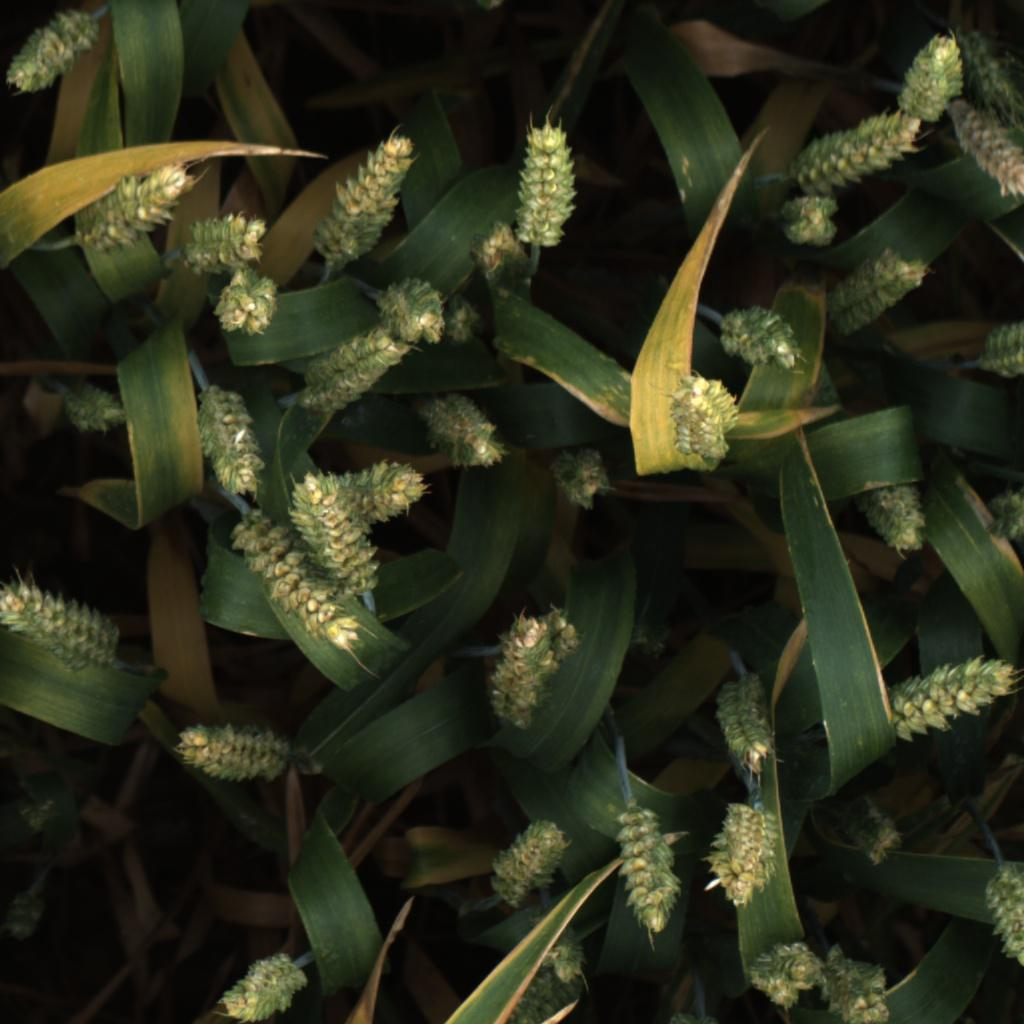0-0: (220, 505, 362, 654), (306, 132, 416, 274), (63, 152, 206, 260), (878, 654, 1017, 746), (781, 110, 924, 194), (0, 574, 121, 671), (288, 470, 379, 588), (301, 319, 415, 413), (614, 796, 687, 934), (828, 243, 930, 340), (509, 119, 580, 252), (704, 799, 785, 914), (190, 375, 267, 492), (490, 611, 563, 734), (944, 92, 1024, 199), (3, 3, 97, 94), (665, 366, 745, 468), (219, 942, 315, 1024), (486, 816, 572, 907), (175, 718, 285, 788), (806, 942, 895, 1024), (716, 298, 804, 375), (714, 669, 779, 773), (422, 392, 505, 472), (897, 27, 969, 119), (204, 265, 286, 345), (858, 476, 937, 558), (744, 934, 826, 1011), (181, 210, 268, 279), (357, 452, 430, 529), (954, 27, 1016, 115), (980, 864, 1024, 985), (497, 966, 588, 1024), (377, 277, 448, 350), (548, 443, 615, 511), (835, 799, 904, 865), (430, 290, 497, 356), (777, 187, 846, 249), (470, 219, 531, 286), (976, 311, 1024, 390), (64, 379, 128, 436), (538, 921, 590, 986), (533, 608, 585, 668), (841, 953, 890, 1010), (0, 889, 49, 945), (988, 482, 1024, 546)
